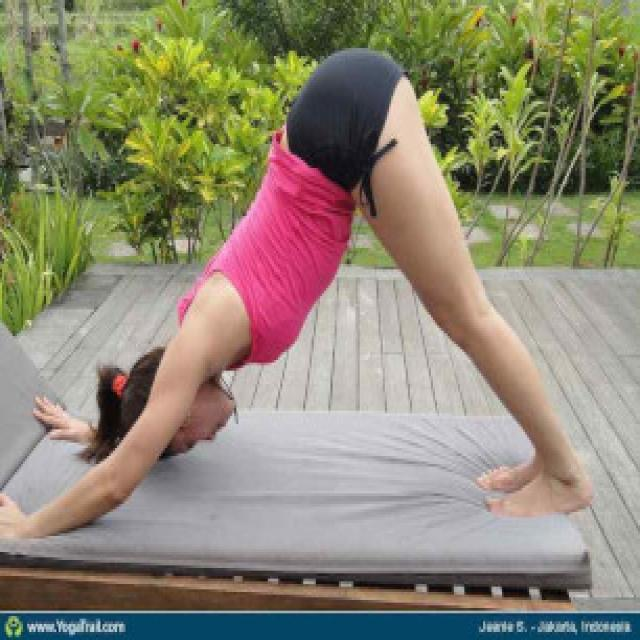yoga-pose downward: (21, 44, 598, 542)
